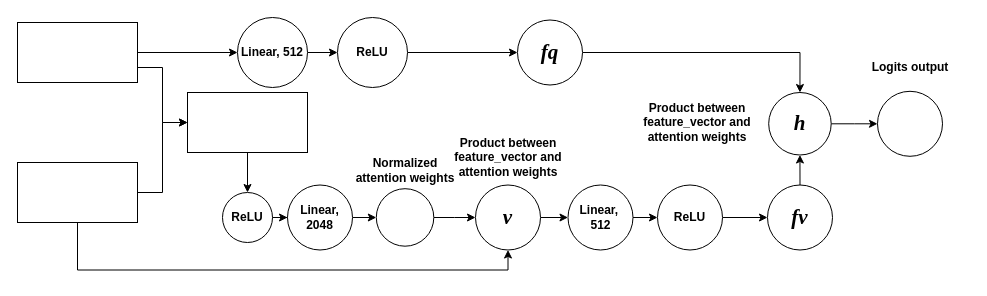
This 987x296 diagram has some shape labels left out. Each missing label, with the centre of its shape:
"concat" belongs at pixel 247 122.
"encoded_question" belongs at pixel 77 52.
"feature_vector" belongs at pixel 77 192.
"Linear, num_classes" belongs at pixel 909 123.
"softmax" belongs at pixel 404 217.
